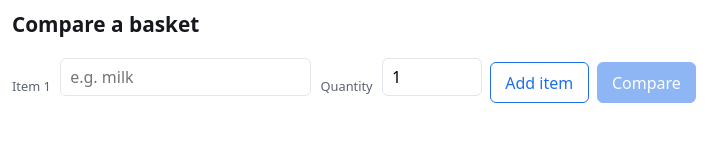
BasketPage › adds further lines
Click the button "Add item": (539, 83) x1=490 y1=62 x2=588 y2=103
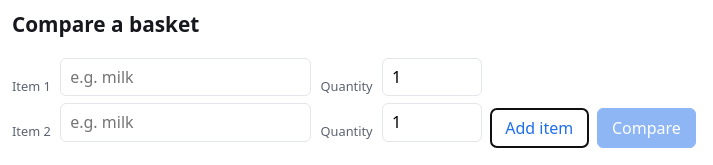
Check: the field labelled "Item 2" is shown, box x1=60 y1=103 x2=311 y2=142
